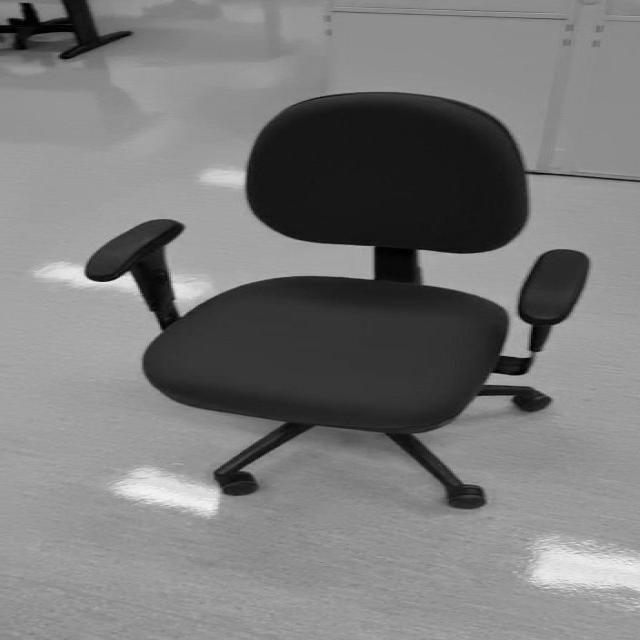cadeira-azul: (84, 91, 590, 510)
